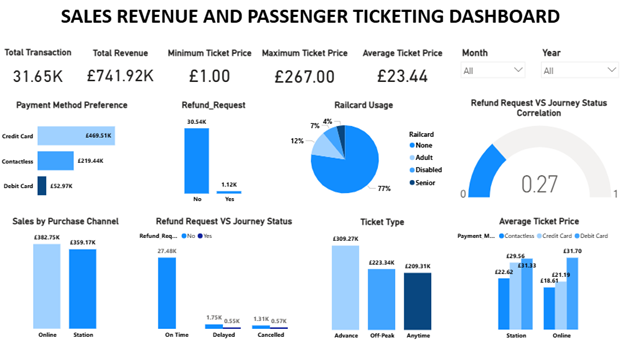

This screenshot's page, from the dashboard's own definition file:
{"tool":"powerbi","page":{"name":"Sales Rev & Passenger Ticketing","canvas":[1280,720],"ordinal":0},"visuals":[{"type":"card","title":"Total Transaction ","fields":{"Values":["tech_table.Total Transaction"]},"box":[0,104.3,161.4,95.7],"z":0},{"type":"card","title":"Total Revenue","fields":{"Values":["tech_table.Total Ticket Sales"]},"box":[167.1,107.1,164.3,92.9],"z":1000},{"type":"columnChart","title":"Sales by Purchase Channel","fields":{"Category":["tech_table.Purchase_Type"],"Y":["Sum(tech_table.Price)"]},"box":[0,451.5,274.4,266.2],"z":2000},{"type":"barChart","title":"Payment Method Preference","fields":{"Category":["tech_table.Payment_Method"],"Y":["Sum(tech_table.Price)"]},"box":[0,212.7,300.5,227.8],"z":3000},{"type":"clusteredColumnChart","title":"Average Ticket Price","fields":{"Category":["tech_table.Purchase_Type"],"Y":["tech_table.Average Ticket Sale"],"Series":["tech_table.Payment_Method"]},"box":[935,451.6,345.3,268.7],"z":4000},{"type":"card","title":"Minimum Ticket Price","fields":{"Values":["tech_table.Minimum Ticket Price"]},"box":[340,107.1,185.7,92.9],"z":5000},{"type":"card","title":"Maximum Ticket Price","fields":{"Values":["tech_table.Maximum"]},"box":[531.4,105.7,192.9,94.3],"z":6000},{"type":"card","title":"Average Ticket Price","fields":{"Values":["tech_table.Average Ticket Sale"]},"box":[731.4,107.1,192.9,92.9],"z":7000},{"type":"pieChart","title":"Railcard Usage","fields":{"Category":["tech_table.Railcard"],"Y":["Sum(tech_table.Price)"]},"box":[573.6,212.7,349.9,227.8],"z":8000},{"type":"columnChart","title":"Refund_Request","fields":{"Category":["tech_table.Refund_Request"],"Y":["tech_table.Total Transaction"]},"box":[315.6,212.7,248.4,227.8],"z":9000},{"type":"columnChart","title":"Ticket Type","fields":{"Category":["tech_table.Ticket_Type"],"Y":["Sum(tech_table.Price)"]},"box":[649,452.8,276,267.2],"z":10000},{"type":"clusteredColumnChart","title":"Refund Request VS Journey Status","fields":{"Category":["tech_table.Journey_Status"],"Series":["tech_table.Refund_Request"],"Y":["CountNonNull(tech_table.Refund_Request)"]},"box":[283.4,450.7,356.8,267.2],"z":11000},{"type":"slicer","fields":{"Values":["tech_table.Year"]},"box":[1100,105.7,180,94.3],"z":12000},{"type":"slicer","fields":{"Values":["tech_table.Month"]},"box":[935.7,105.7,152.9,94.3],"z":13000},{"type":"gauge","title":"Refund Request VS Journey Status Correlation","fields":{"Y":["DAX Date Table.Refund %"]},"box":[936.8,212.8,341.5,227],"z":14000},{"type":"textbox","box":[0,15.7,1277.7,89.3],"z":15000}]}

Visuals, with their boxes in screenshot pixels (x1, y1, x2, y2), scaled from the page's 1280x720 canvas onto the 622x343 screenshot:
"Total Transaction " card: [left=0, top=50, right=78, bottom=95]
"Total Revenue" card: [left=81, top=51, right=161, bottom=95]
"Sales by Purchase Channel" columnChart: [left=0, top=215, right=133, bottom=342]
"Payment Method Preference" barChart: [left=0, top=101, right=146, bottom=210]
"Average Ticket Price" clusteredColumnChart: [left=454, top=215, right=621, bottom=342]
"Minimum Ticket Price" card: [left=165, top=51, right=255, bottom=95]
"Maximum Ticket Price" card: [left=258, top=50, right=352, bottom=95]
"Average Ticket Price" card: [left=355, top=51, right=449, bottom=95]
"Railcard Usage" pieChart: [left=279, top=101, right=449, bottom=210]
"Refund_Request" columnChart: [left=153, top=101, right=274, bottom=210]
"Ticket Type" columnChart: [left=315, top=216, right=449, bottom=342]
"Refund Request VS Journey Status" clusteredColumnChart: [left=138, top=215, right=311, bottom=342]
slicer - tech_table.Year: [left=535, top=50, right=621, bottom=95]
slicer - tech_table.Month: [left=455, top=50, right=529, bottom=95]
"Refund Request VS Journey Status Correlation" gauge: [left=455, top=101, right=621, bottom=210]
textbox: [left=0, top=7, right=621, bottom=50]
